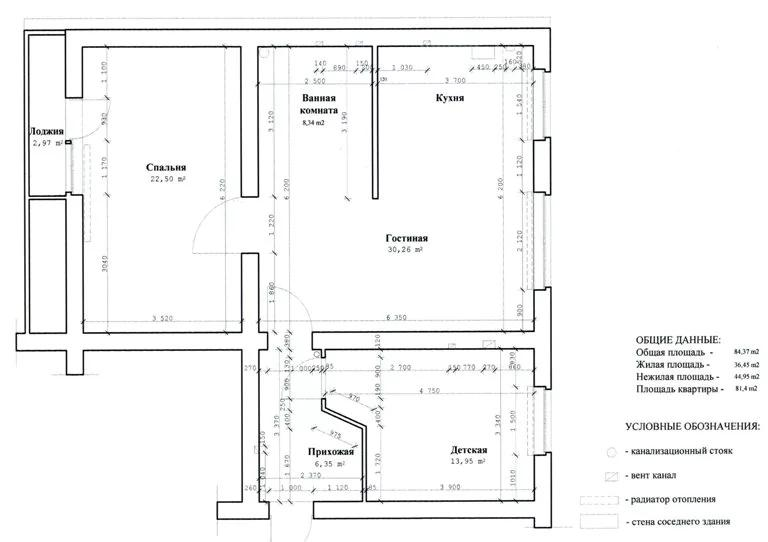bathroom: (259, 46, 373, 195)
bedroom: (82, 47, 241, 333)
children_room: (325, 348, 535, 502)
hallway: (260, 350, 363, 502)
kitchen: (378, 46, 534, 198)
living_room: (259, 192, 535, 332)
terrace: (28, 35, 66, 196)
